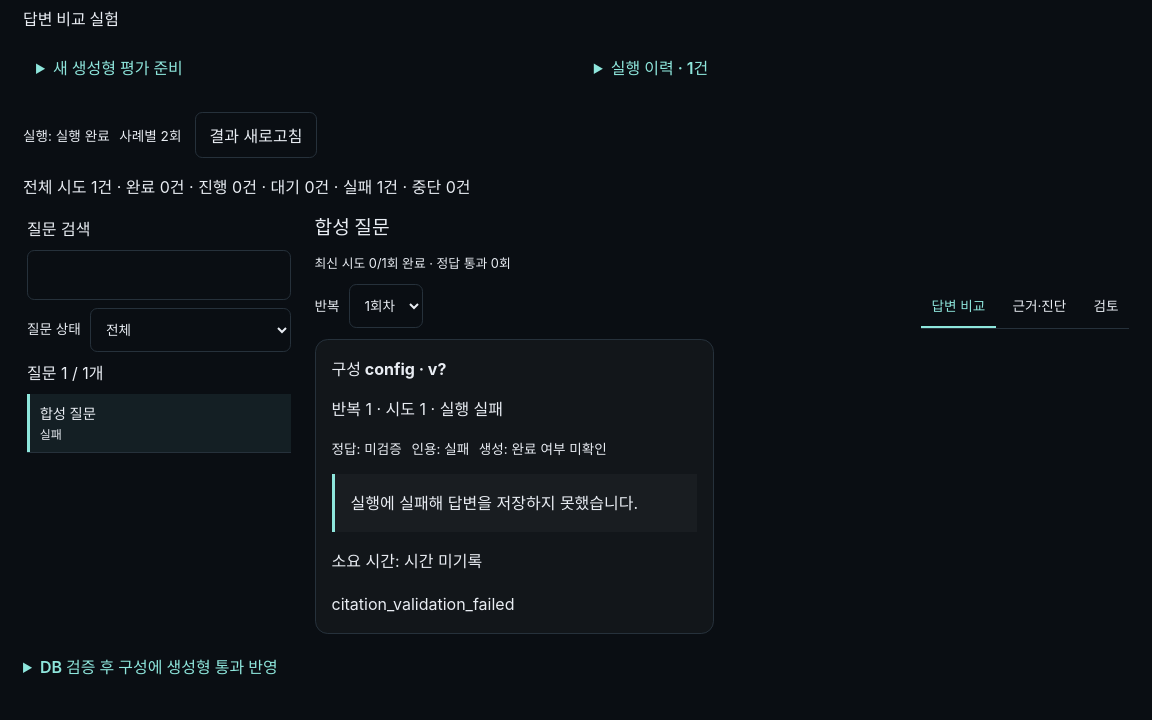
Scenario: does not report unpreserved failure observations as zero retrieval coverage for failed
Check: the text "인용: 실패" is shown, box [411,438,469,458]
Check: the text "생성: 완료 여부 미확인" is shown, box [479,438,607,458]
Click the tab "근거·진단". click: (1039, 306)
box: [1002,284,1077,328]
(page scrolled)
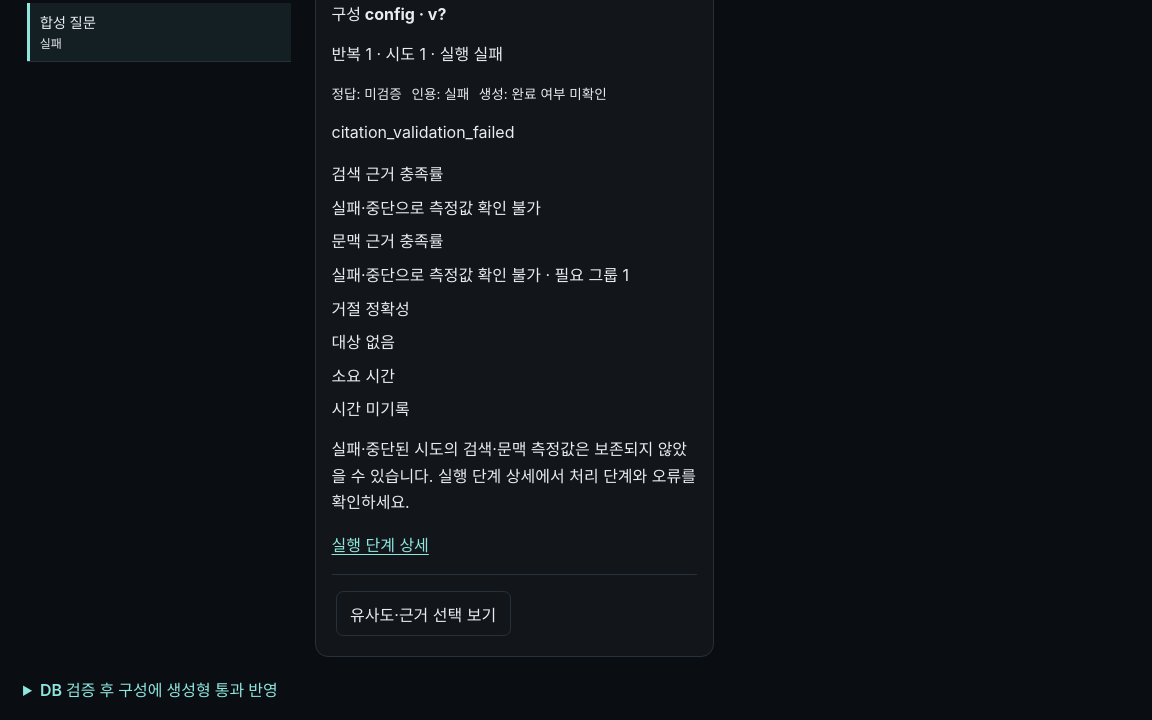
Check: the text "실패·중단으로 측정값 확인 불가" is shown 2 times, box [332,198,541,218]; [332,265,629,285]
Check: the text "실패·중단된 시도의 검색·문맥 측정값은 보존되지 않았을 수 있습니다. 실행 단계 상세에서 처리 단계와 오류를 확인하세요." is shown, box [332,436,697,516]
